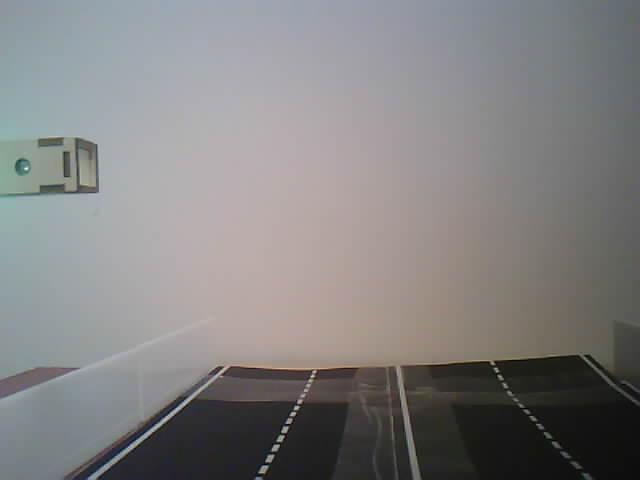no: (0, 131, 107, 202)
